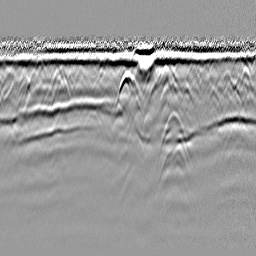cavity: (115, 68, 144, 105)
